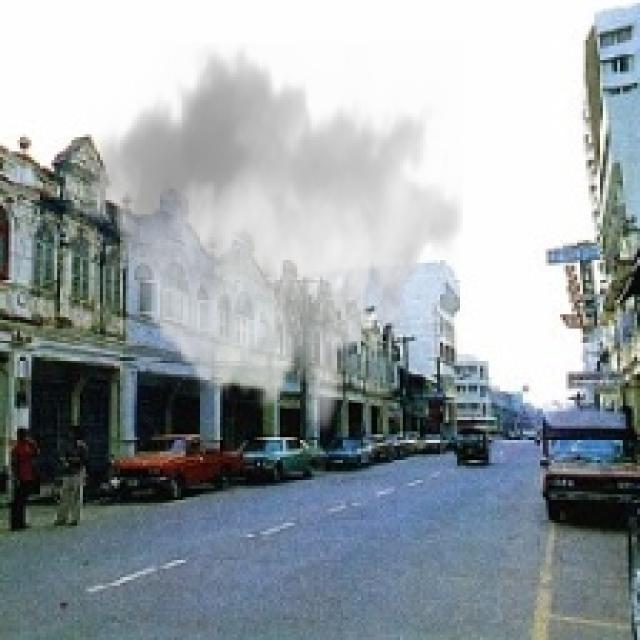Smoke: (86, 42, 463, 438)
